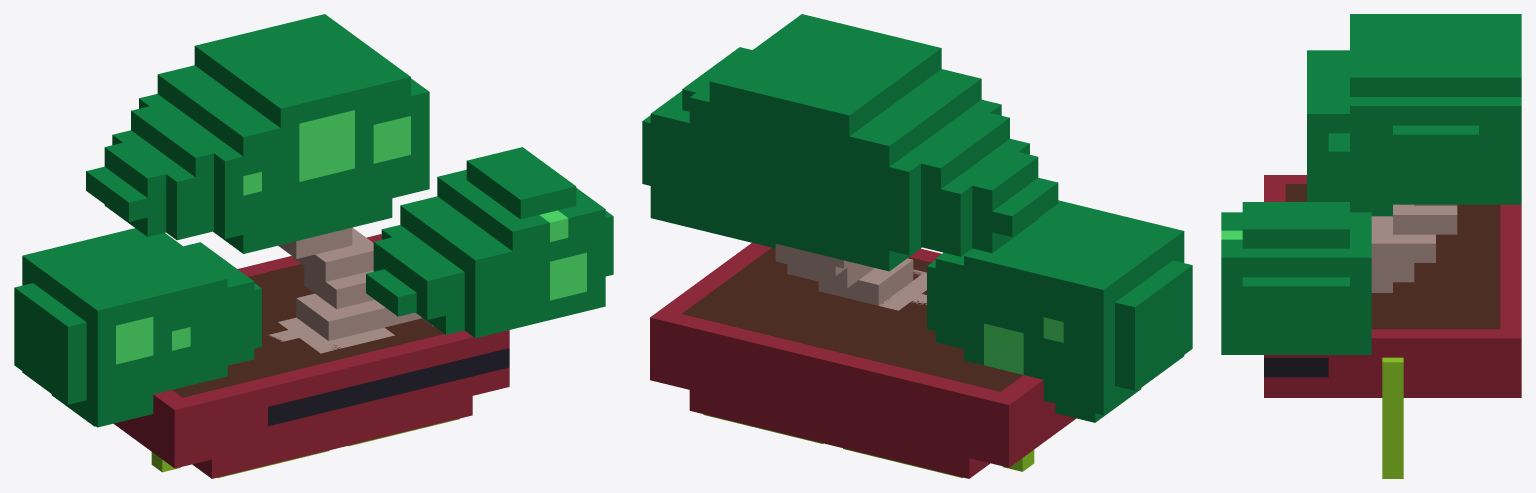
The model's file is bonsai.glb.
3 renders of one model, left to right at view 1: azimuth 30°, elevation 25°; view 2: azimuth 150°, elevation 25°; view 3: azimuth 270°, elevation 25°, orthographic. The views are drawn at different scales.
Visible parts, largest first — view 1: tree, pot; view 2: tree, pot, glasses; view 3: tree, pot, glasses.
Part boxes in pixels (left/top/right/bottom): tree: left=14, top=14, right=613, bottom=427; pot: left=114, top=234, right=509, bottom=478; tree: left=642, top=14, right=1192, bottom=422; pot: left=650, top=243, right=1076, bottom=478; glasses: left=703, top=414, right=1034, bottom=477; tree: left=1221, top=14, right=1521, bottom=354; pot: left=1264, top=175, right=1521, bottom=397; glasses: left=1382, top=357, right=1403, bottom=478.
Size of the model in its own units: 27 by 19 by 14.
10 materials, 10 textured.
